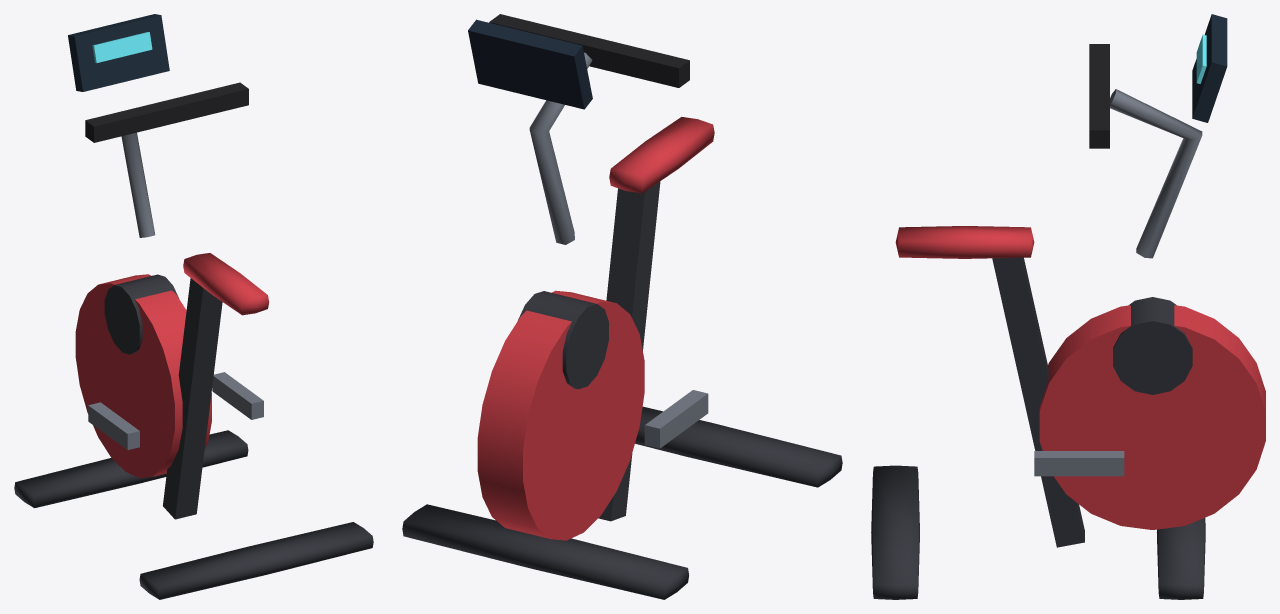
File: exercise_bike.glb
The picture shows the model from 3 angles, left to right: view 1: azimuth 30°, elevation 25°; view 2: azimuth 150°, elevation 25°; view 3: azimuth 270°, elevation 25°; orthographic projection. The views are drawn at different scales.
Parts seen in each view (by area): view 1: root; view 2: root; view 3: root.
Part boxes in pixels (<box>): root: <box>14,14,373,599</box>; root: <box>402,14,842,599</box>; root: <box>871,14,1265,599</box>.
Bounding box in the file's own units: 0.7 × 1.36 × 0.9672.
